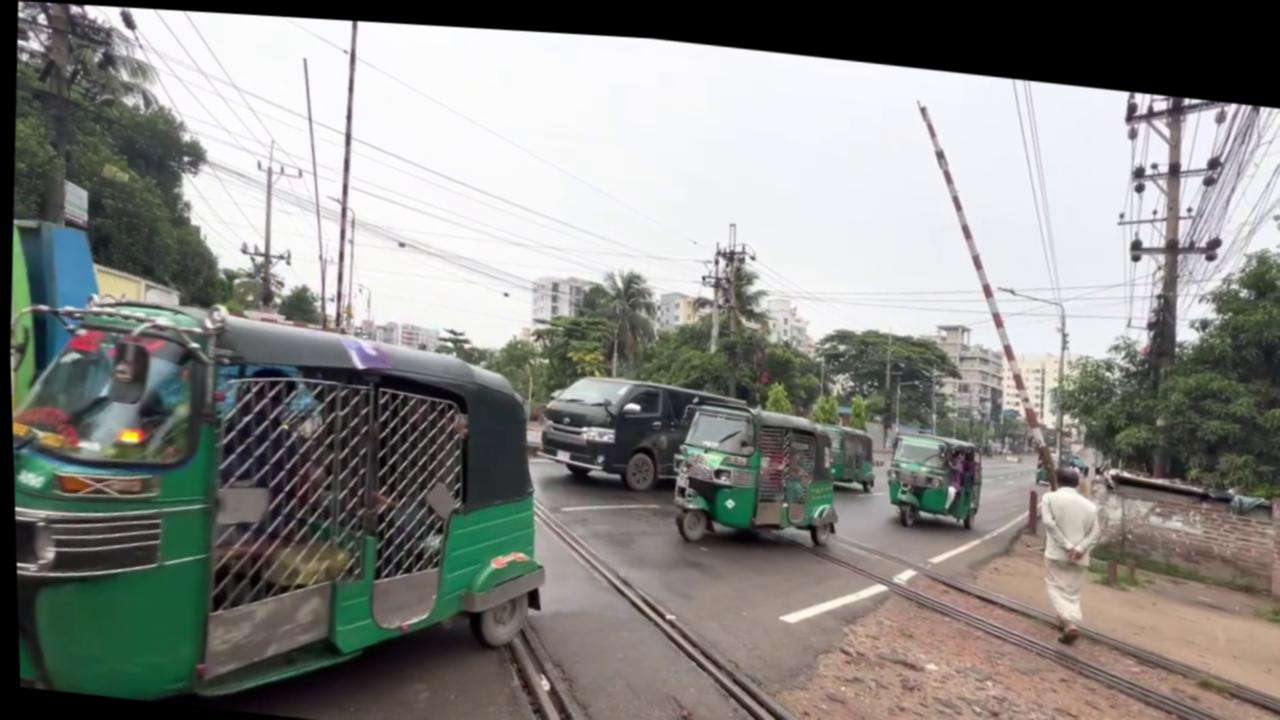Car: (513, 489, 871, 720)
Fence: (1027, 450, 1102, 634)
Garbage: (896, 87, 1072, 464), (985, 272, 1070, 454), (323, 15, 366, 328)
Motorcycle: (739, 507, 1280, 720)
Rickshaw: (6, 279, 557, 720), (663, 386, 841, 549), (879, 416, 983, 523), (810, 411, 874, 483)
